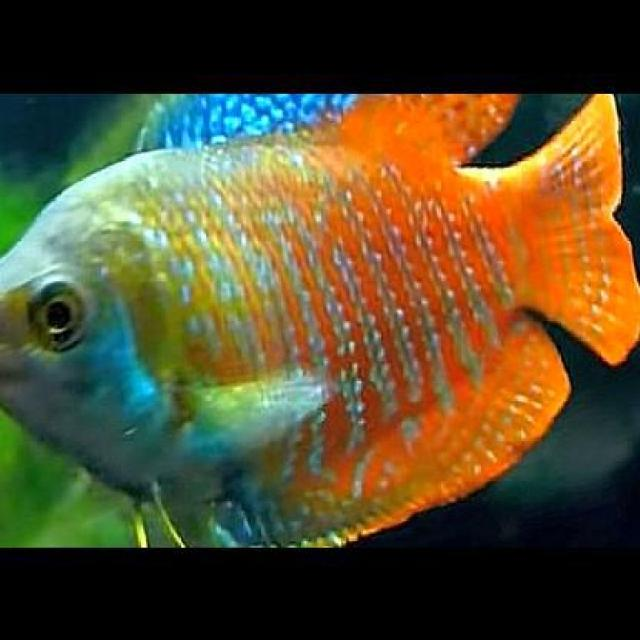Gourami: (1, 91, 638, 549)
